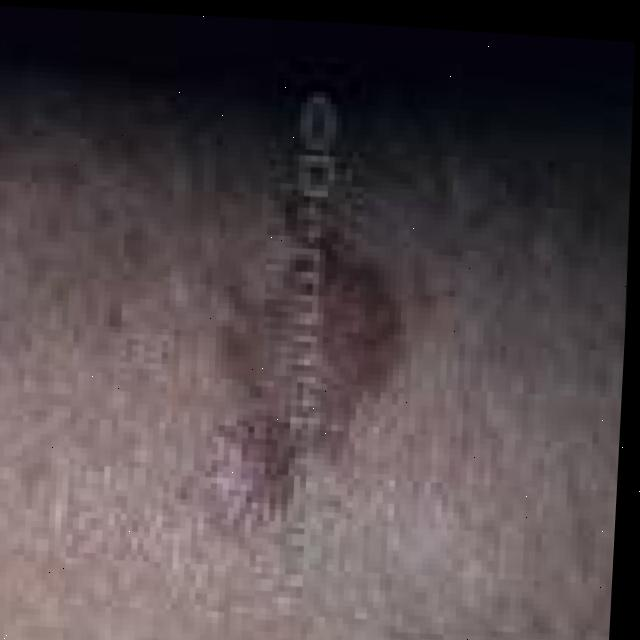Melasma: (204, 269, 390, 479)
